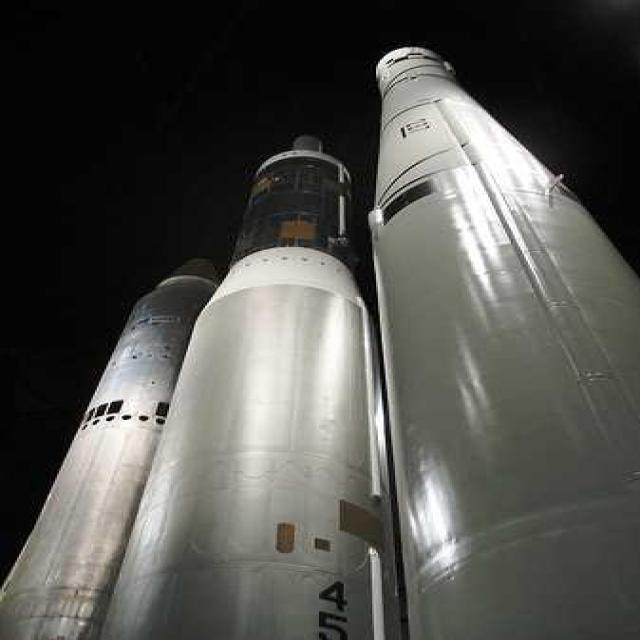missile: (370, 41, 639, 640), (95, 123, 382, 640), (0, 247, 218, 640)
